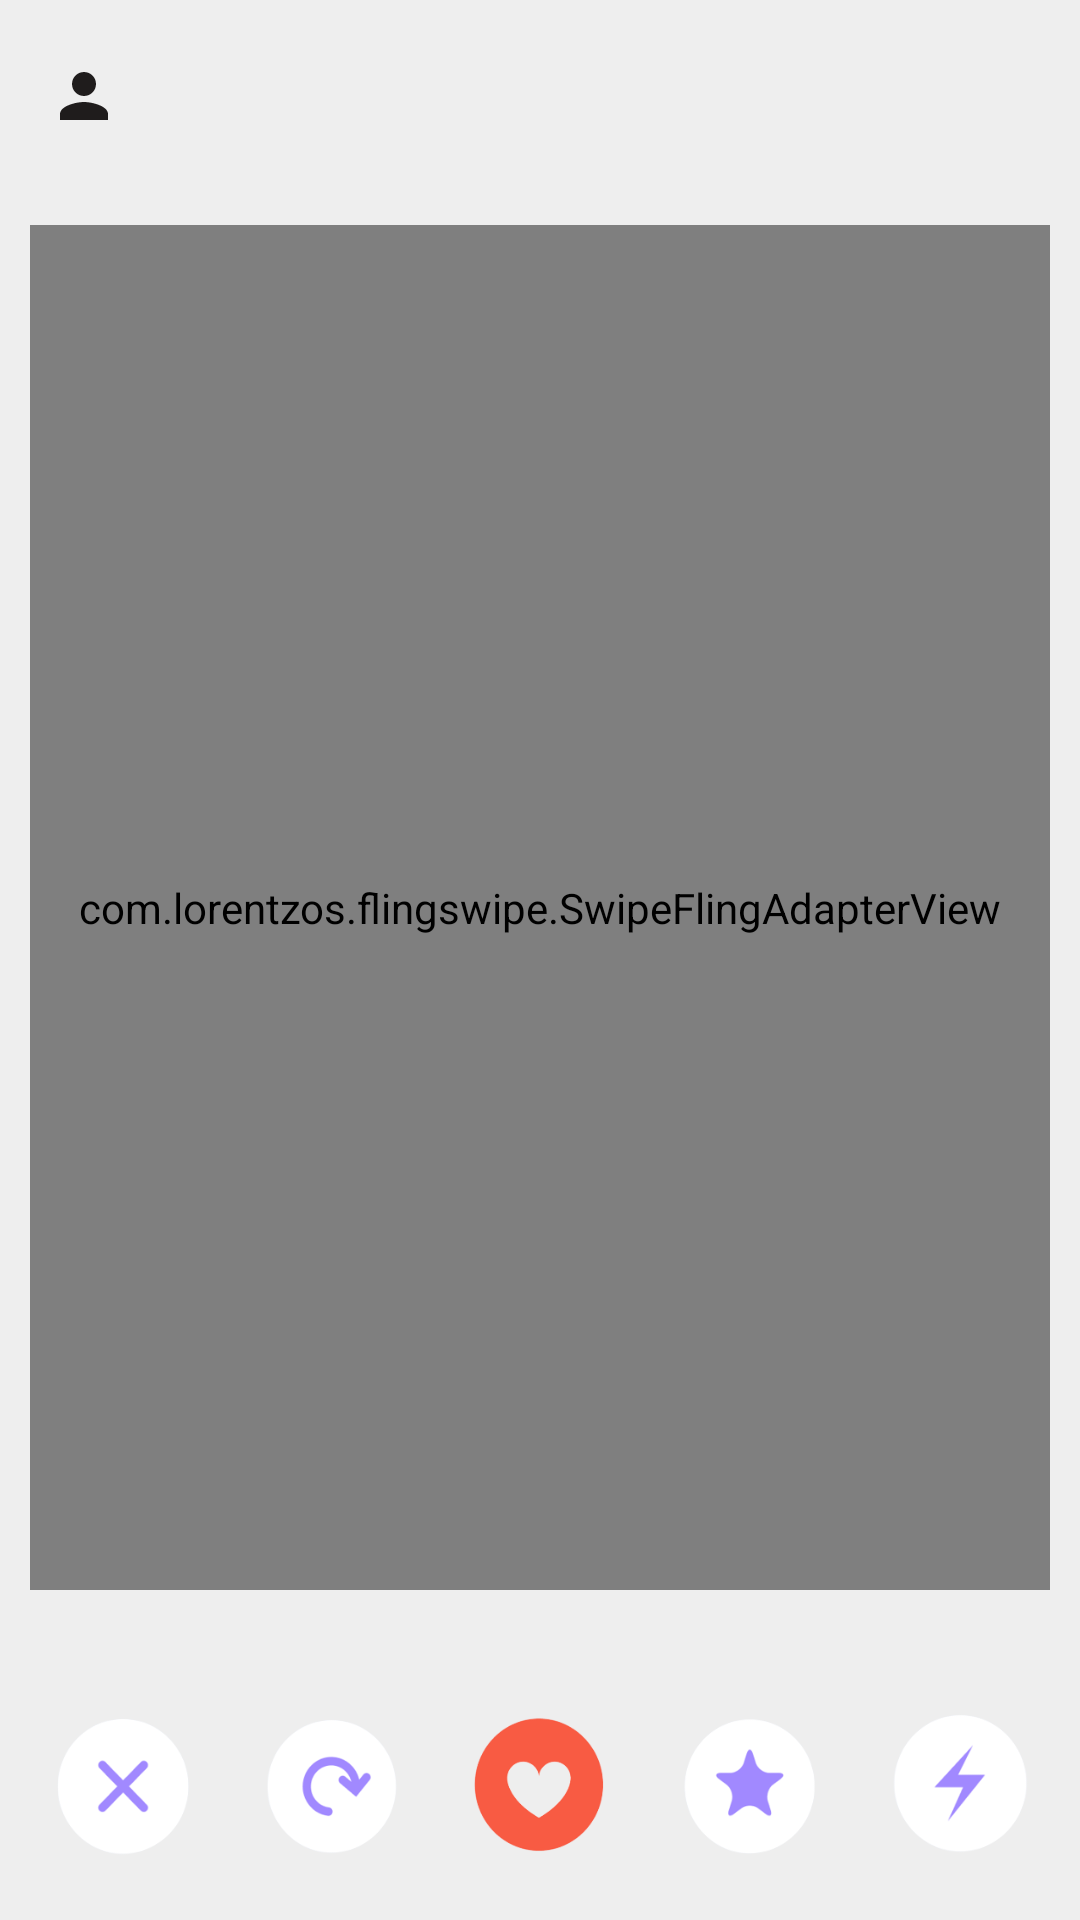

Where icons sit on this 1080*1920 app screen, as box=[x1, y1, x2, y2]:
cross: box=[58, 1719, 188, 1854]
heart: box=[474, 1718, 603, 1851]
lightning: box=[894, 1715, 1027, 1852]
person: box=[60, 72, 108, 120]
star: box=[685, 1719, 815, 1853]
yenilee: box=[268, 1720, 396, 1853]
